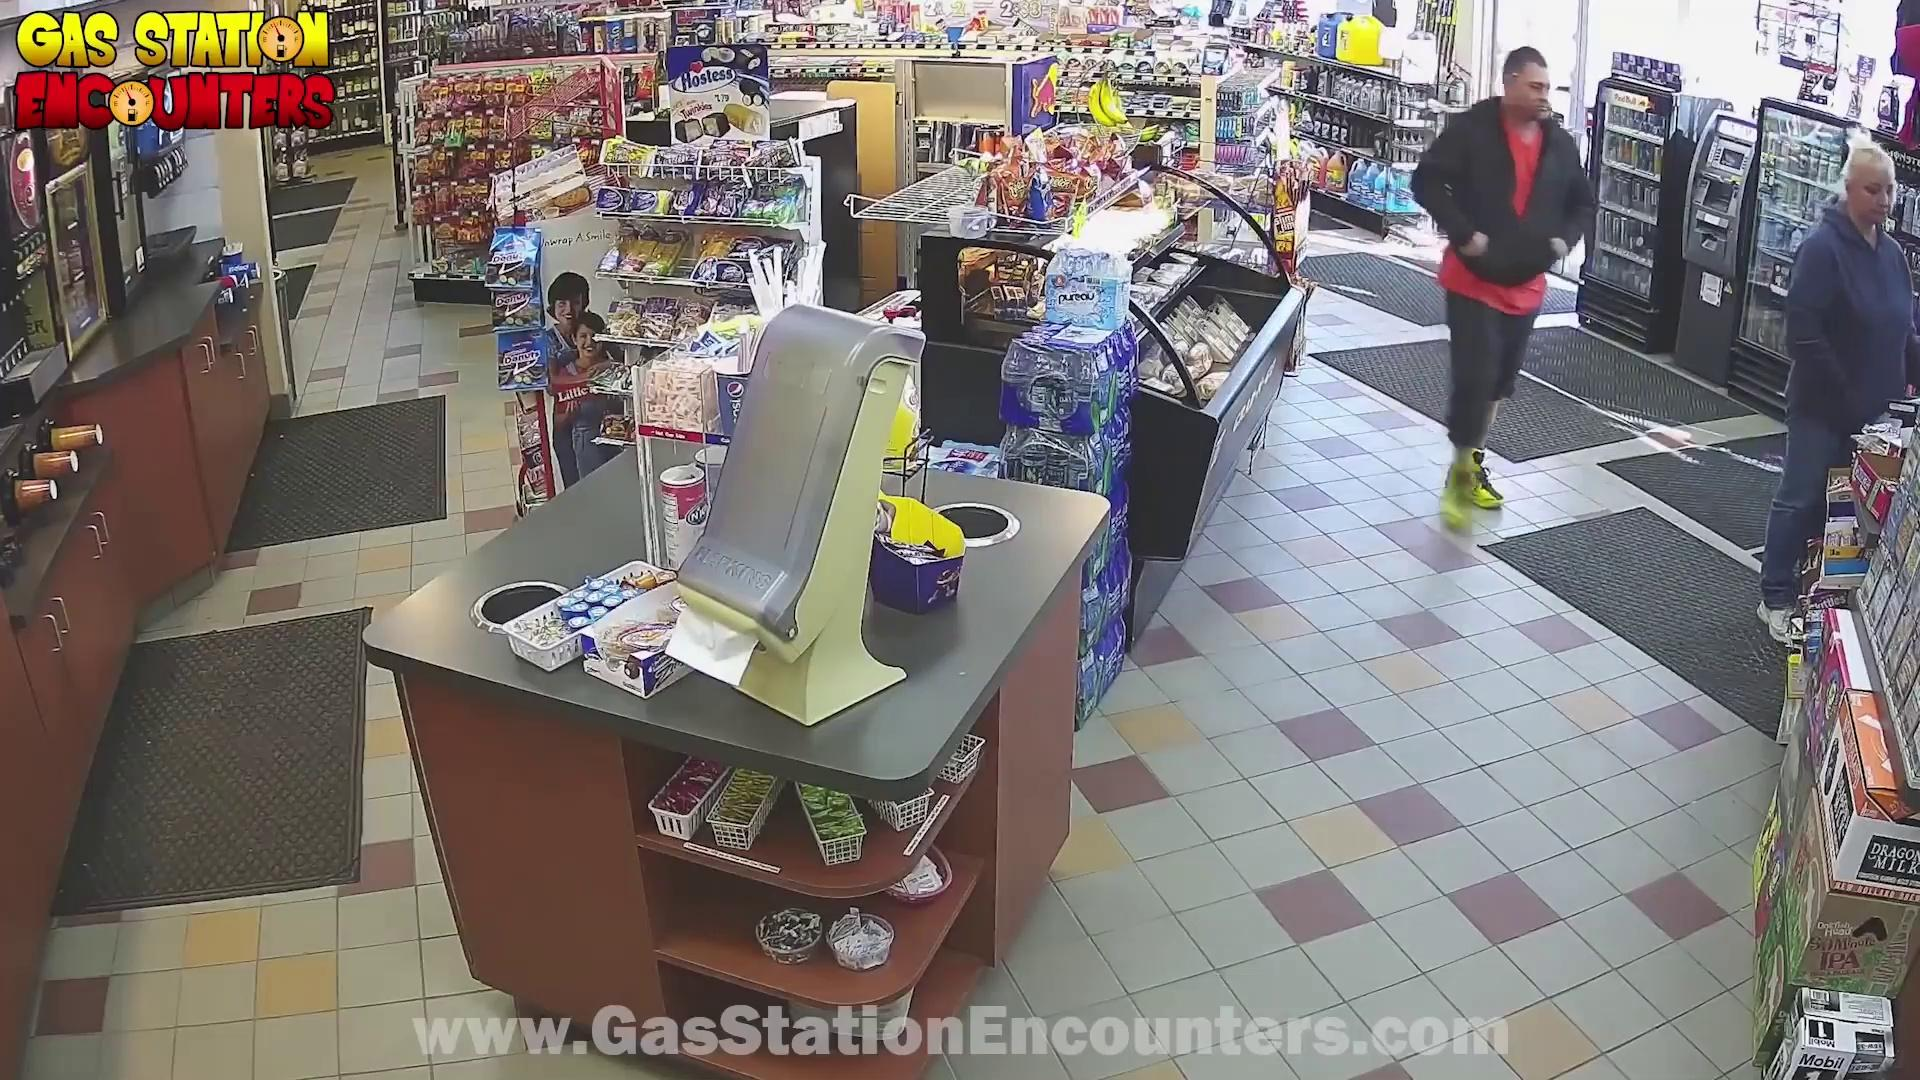Regular: (1377, 47, 1643, 566), (1754, 123, 1904, 650)
